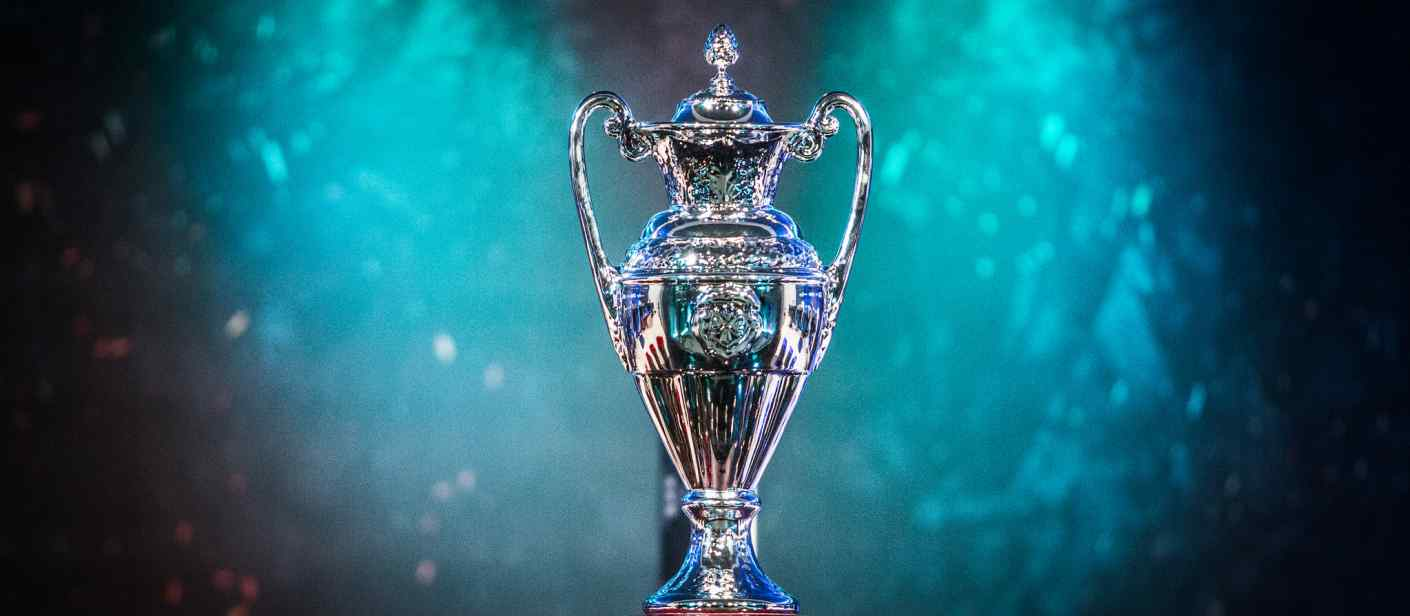trophy: (559, 20, 879, 616)
